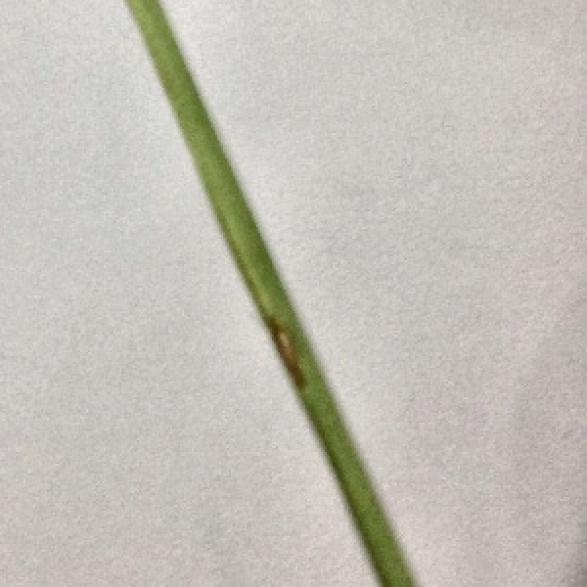Leaf_smut: (249, 282, 305, 383)
